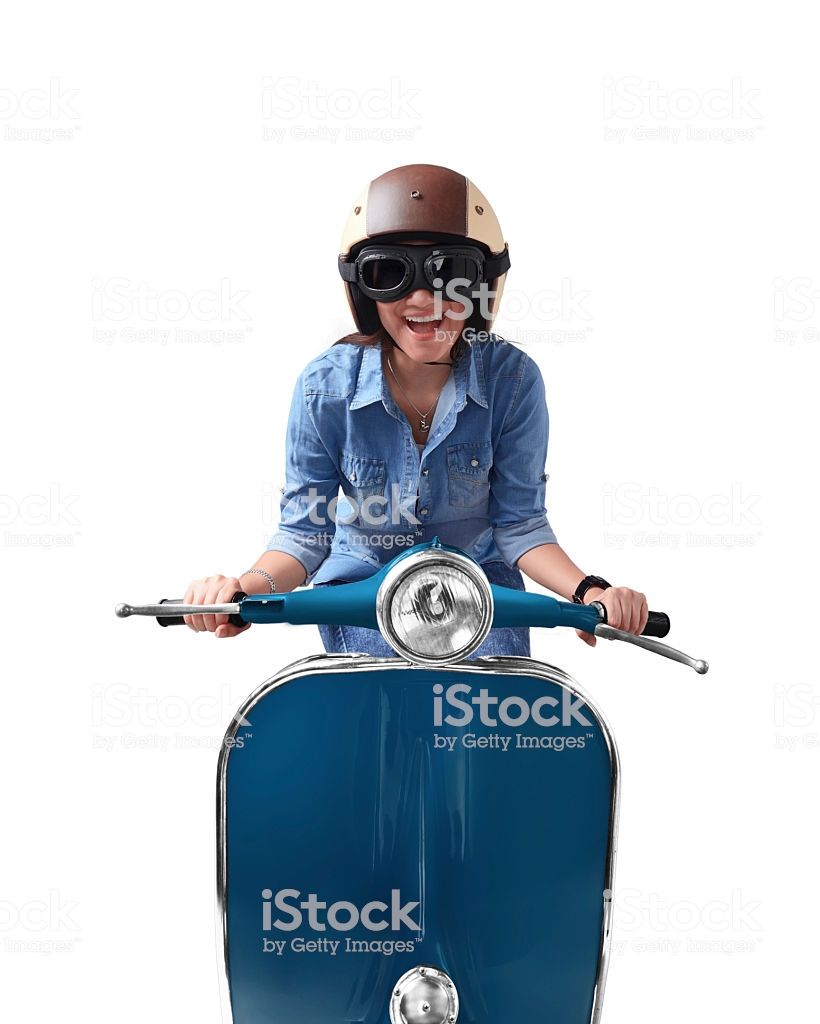helmet: (341, 157, 530, 286)
